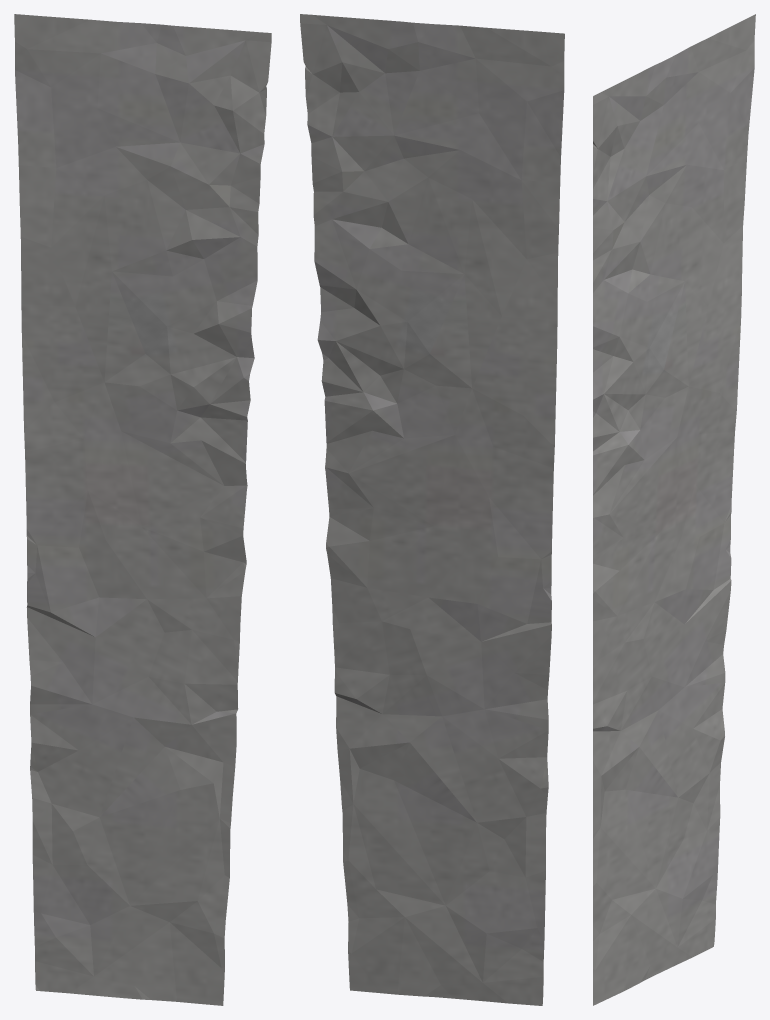
3 renders of one model, left to right at view 1: azimuth 30°, elevation 25°; view 2: azimuth 210°, elevation 25°; view 3: azimuth 270°, elevation 25°, orthographic. The views are drawn at different scales.
Bounding box in the file's own units: 0.1583 × 0.8374 × 0.1325.
Materials: 1 (1 with a texture image).
